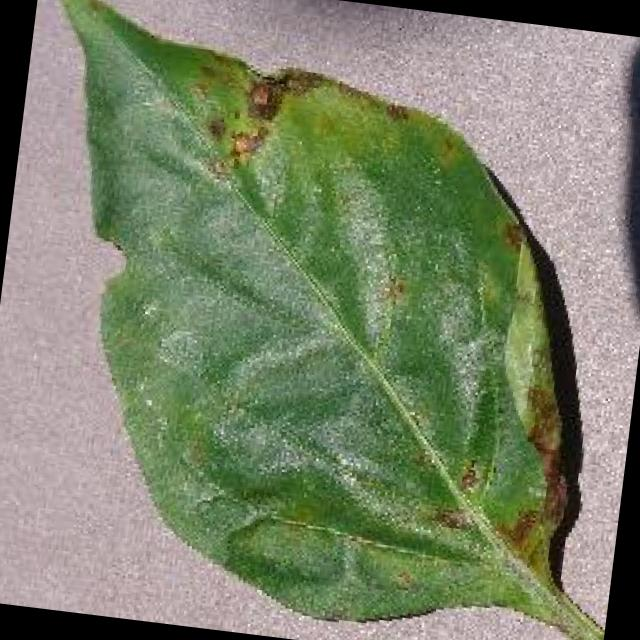Chilli_Bacterial_Spot: (0, 0, 640, 640), (176, 50, 292, 182), (242, 72, 282, 120), (428, 500, 476, 535), (492, 213, 532, 254), (224, 123, 263, 164), (374, 269, 412, 310), (452, 452, 484, 498), (198, 108, 230, 144), (377, 96, 413, 127)
